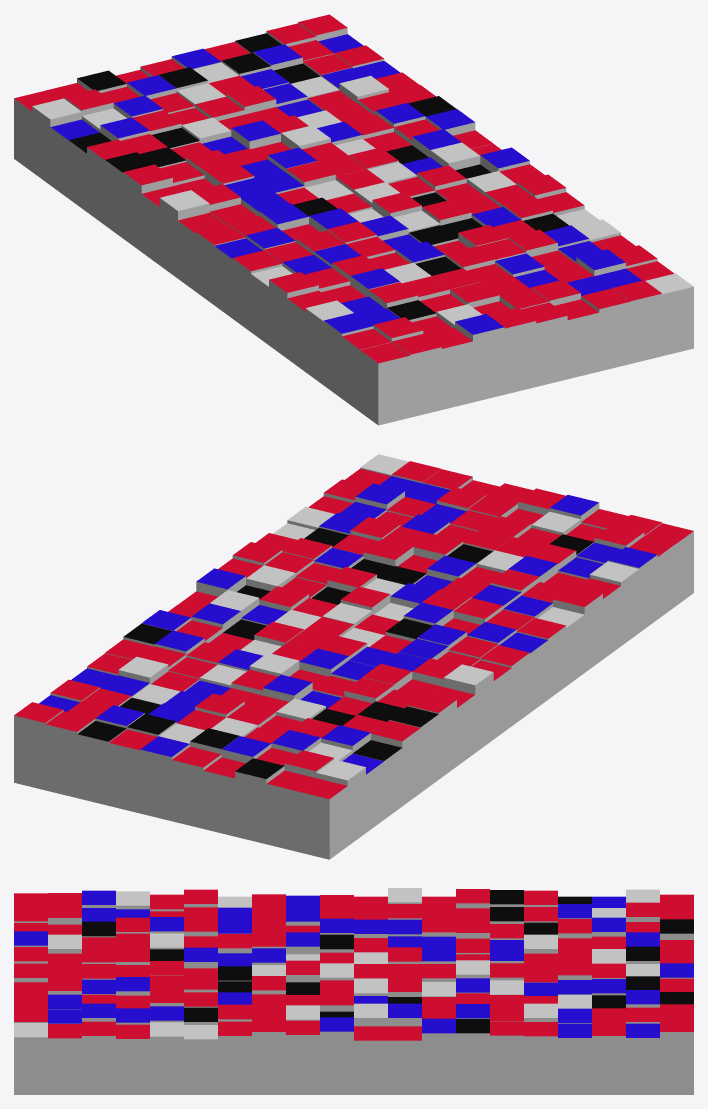
Rendered from Crazyfloor.fbx.
3 renders of one model, top to bottom at view 1: azimuth 30°, elevation 25°; view 2: azimuth 150°, elevation 25°; view 3: azimuth 270°, elevation 25°, orthographic. The views are drawn at different scales.
Visible parts, largest first — view 1: Cube.079; view 2: Cube.079; view 3: Cube.079.
Part boxes in pixels (left/top/right/bottom): Cube.079: left=14, top=14, right=693, bottom=425; Cube.079: left=14, top=454, right=693, bottom=859; Cube.079: left=14, top=888, right=693, bottom=1094.
Bounding box in the file's own units: 2000 × 410 × 4000.
